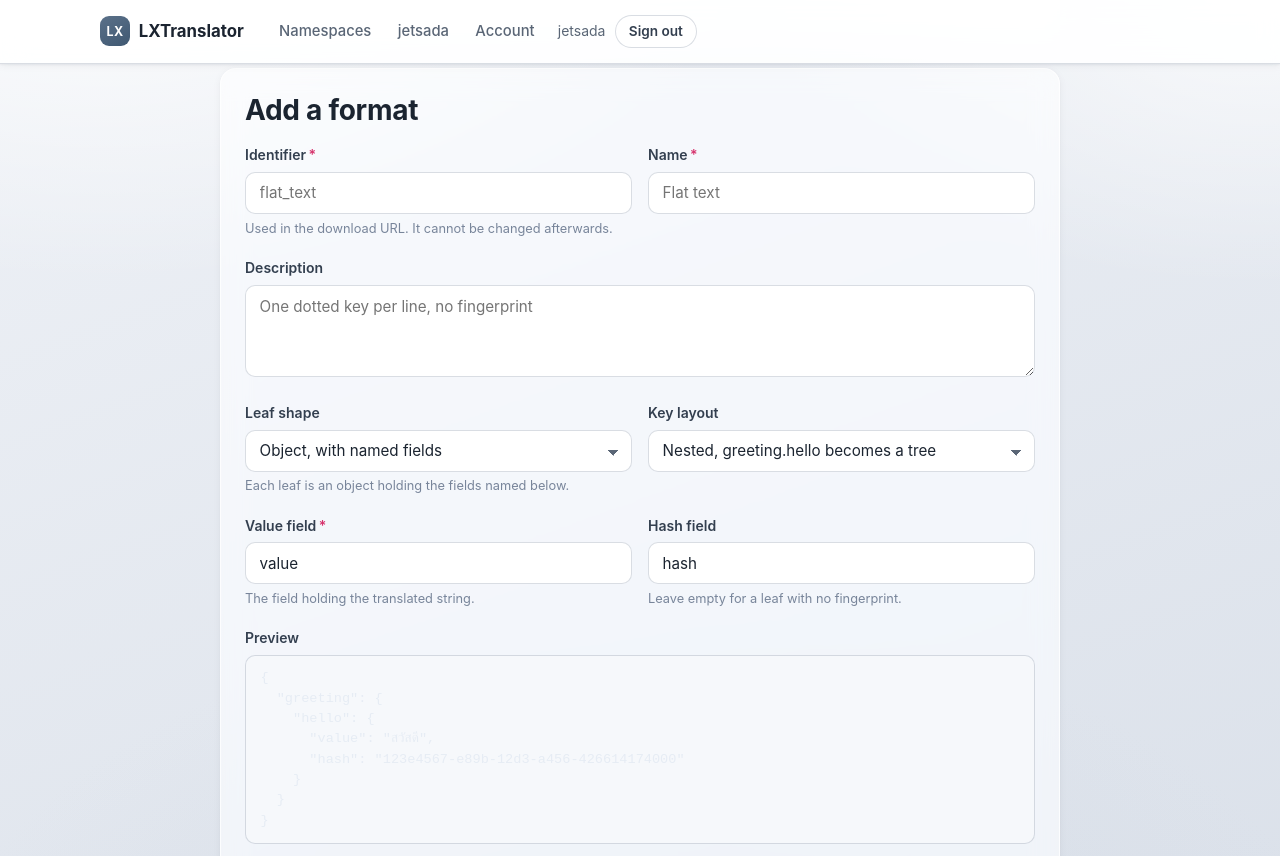
Test: export formats › managing them › previews the shape a leaf will take
This screenshot has width=1280, height=856.
(page scrolled)
Step 1. Select "String, the translated text itself" in the dropdown labelled "Leaf shape" → (438, 451), box [245,430,632,472]
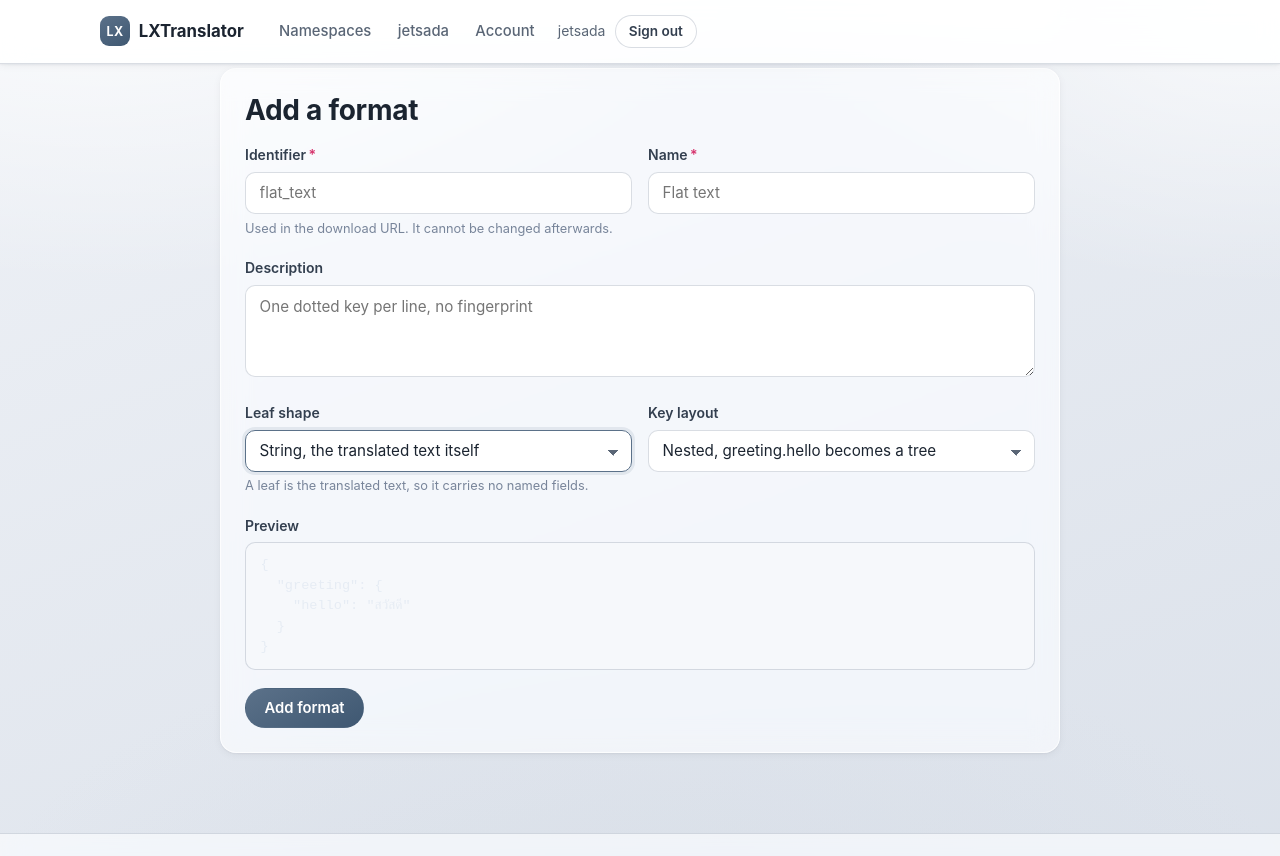
Step 2. Select "Flat, greeting.hello stays one key" in the dropdown labelled "Key layout" → (842, 451), box [648,430,1035,472]
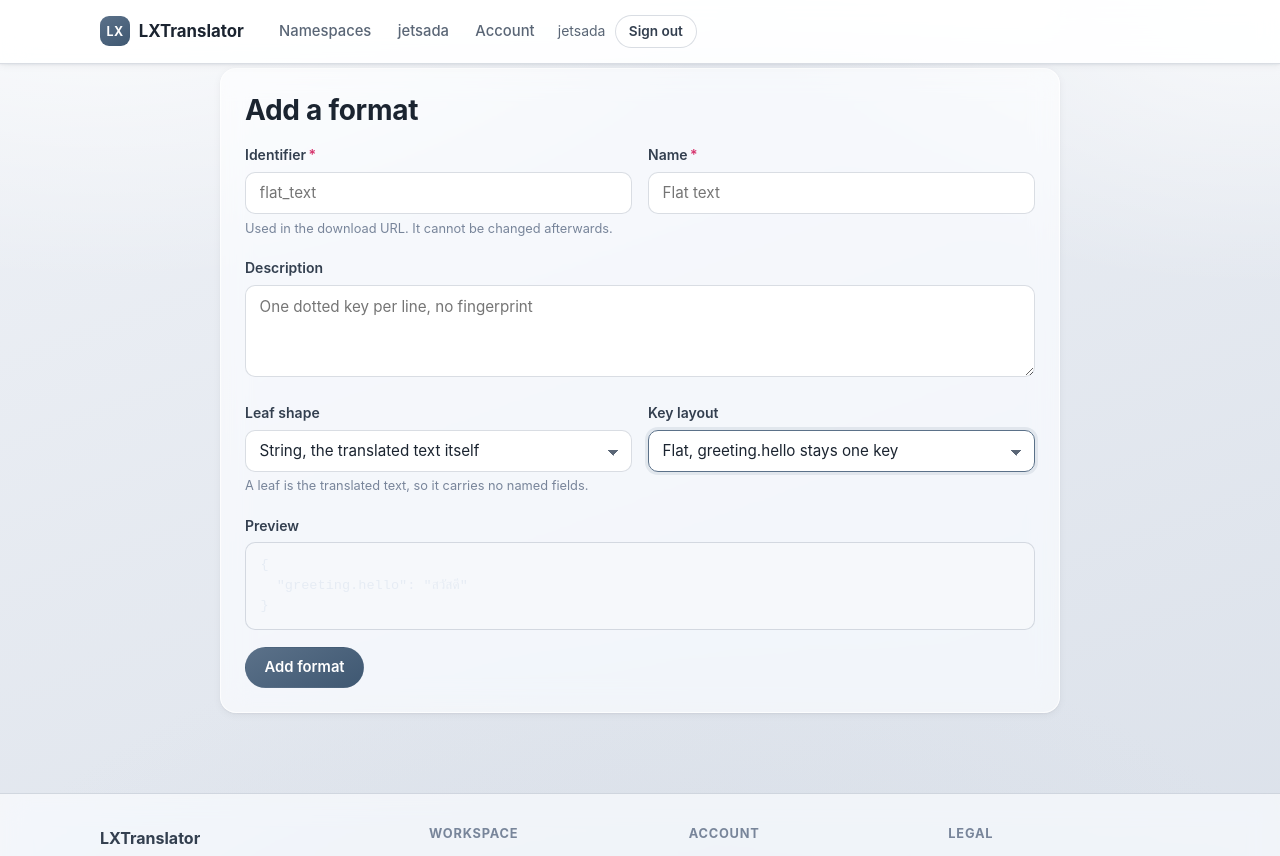
Now the text "{ \"greeting.hello\": \"สวัสดี\" }" is shown, box [245,542,1035,630]
